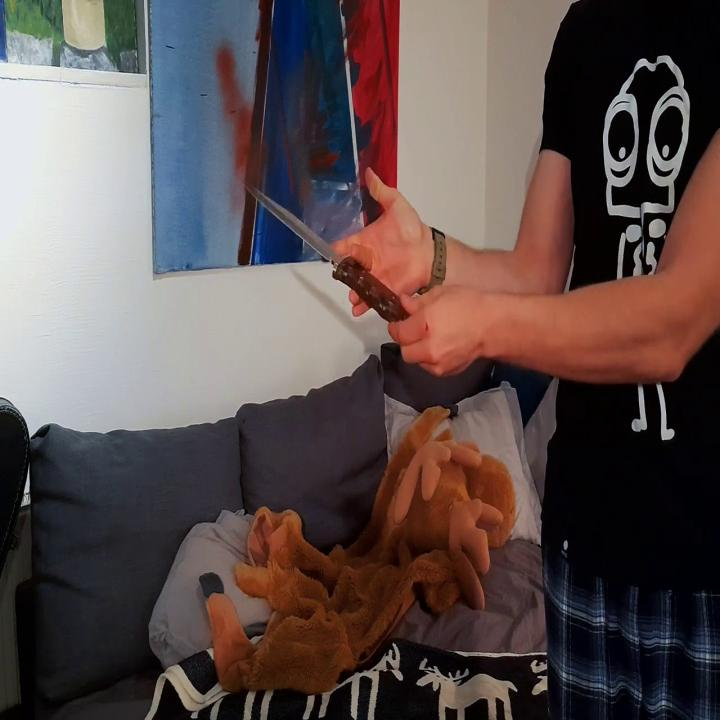knife: (241, 172, 413, 328)
